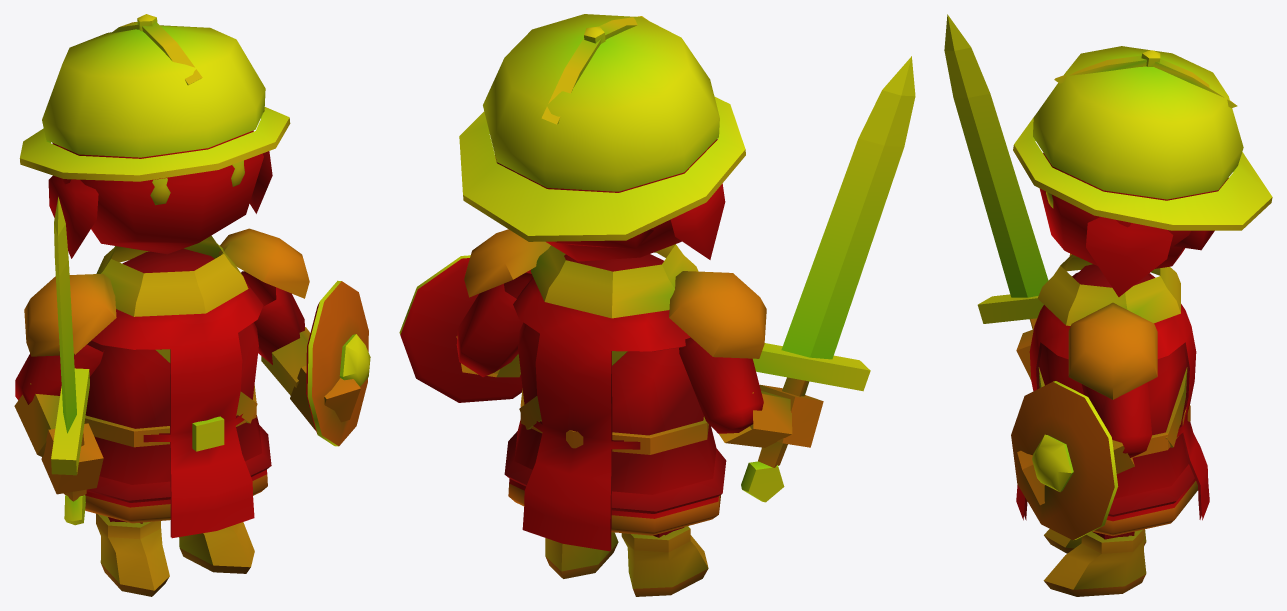
Rendered from Soldier_LOD1.glb.
3 views of the same model, side by side, from view 1: azimuth 30°, elevation 25°; view 2: azimuth 150°, elevation 25°; view 3: azimuth 270°, elevation 25° (orthographic). The views are drawn at different scales.
Parts seen in each view (by area): view 1: Soldier_LOD1; view 2: Soldier_LOD1; view 3: Soldier_LOD1.
Part boxes in pixels (<box>): Soldier_LOD1: <box>14,14,370,596</box>; Soldier_LOD1: <box>399,14,915,596</box>; Soldier_LOD1: <box>944,14,1272,596</box>.
Bounding box in the file's own units: 0.686 × 0.8758 × 0.5044.
